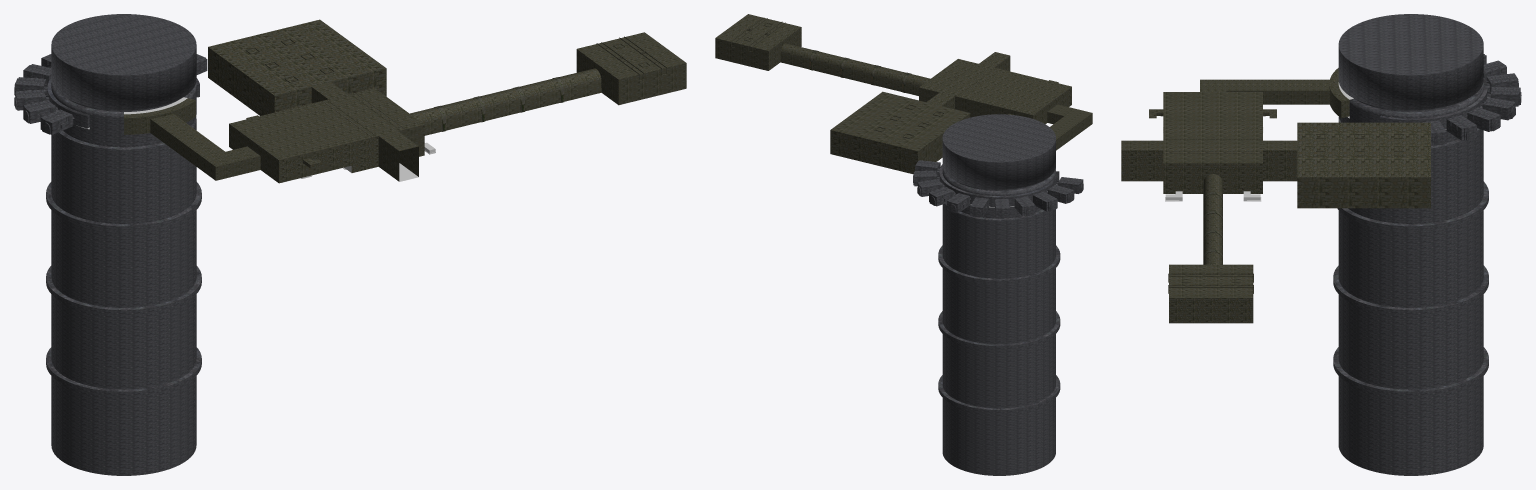
File: Room7.fbx
The picture shows the model from 3 angles, left to right: view 1: azimuth 30°, elevation 25°; view 2: azimuth 150°, elevation 25°; view 3: azimuth 270°, elevation 25°; orthographic projection. The views are drawn at different scales.
Visible parts, largest first — view 1: Room2, Room3, Room1, Room7, Room4, Room5, Room6_2, Room6; view 2: Room2, Room3, Room7, Room1, Room6, Room4, Room6_2, Room5; view 3: Room2, Room3, Room1, Room7, Room6, Room4, Room5.
Part boxes in pixels (x1,y1,x2,y2): Room2: [43, 14, 201, 475]; Room3: [208, 19, 386, 115]; Room1: [229, 88, 435, 183]; Room7: [410, 32, 686, 135]; Room4: [124, 98, 260, 180]; Room5: [378, 131, 418, 181]; Room6_2: [14, 89, 73, 134]; Room6: [14, 54, 207, 95]; Room2: [936, 114, 1060, 475]; Room3: [830, 91, 970, 174]; Room7: [715, 14, 930, 95]; Room1: [919, 59, 1071, 123]; Room6: [913, 160, 1035, 218]; Room4: [1047, 104, 1092, 150]; Room6_2: [1033, 177, 1083, 211]; Room5: [979, 52, 1010, 71]; Room2: [1333, 14, 1490, 475]; Room3: [1263, 122, 1430, 208]; Room1: [1149, 92, 1276, 201]; Room7: [1168, 174, 1253, 323]; Room6: [1422, 54, 1521, 145]; Room4: [1200, 68, 1349, 118]; Room5: [1121, 140, 1163, 181].
Bounding box in the file's own units: 20918 × 14903 × 13490.
